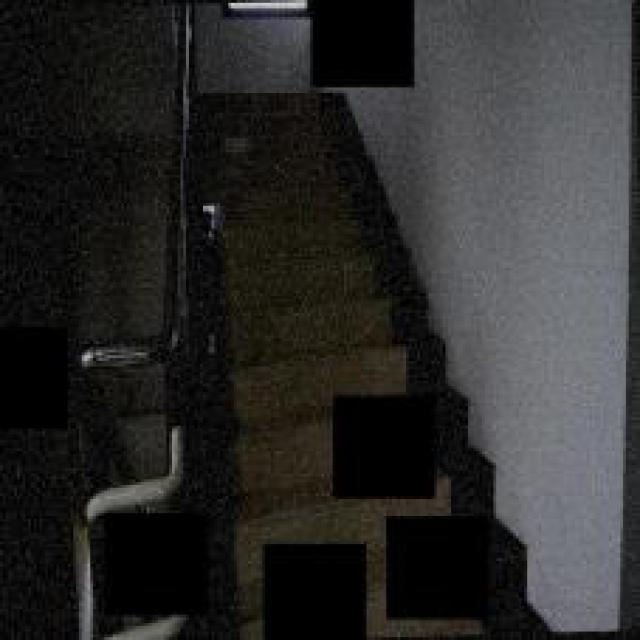upstair: (223, 124, 406, 358)
